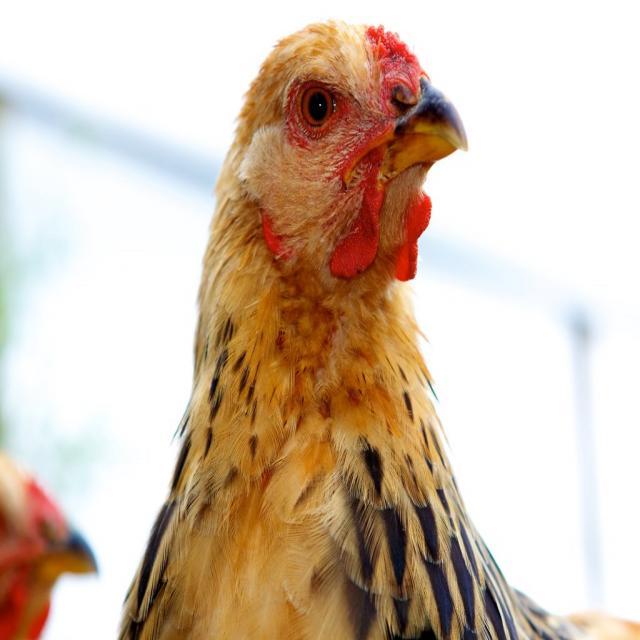Chicken: (108, 14, 564, 639)
